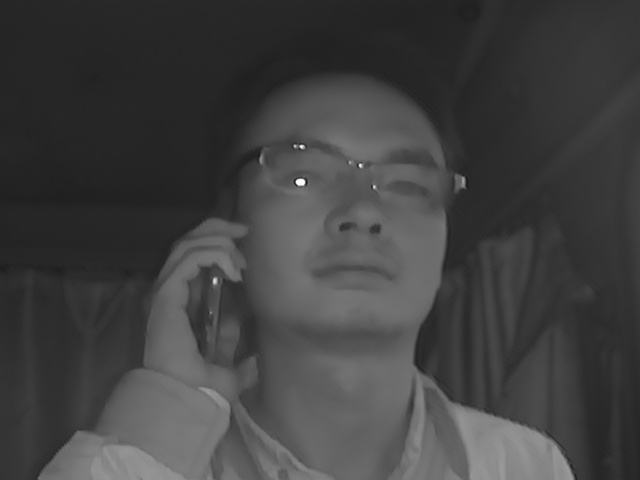hand: (137, 216, 250, 404)
